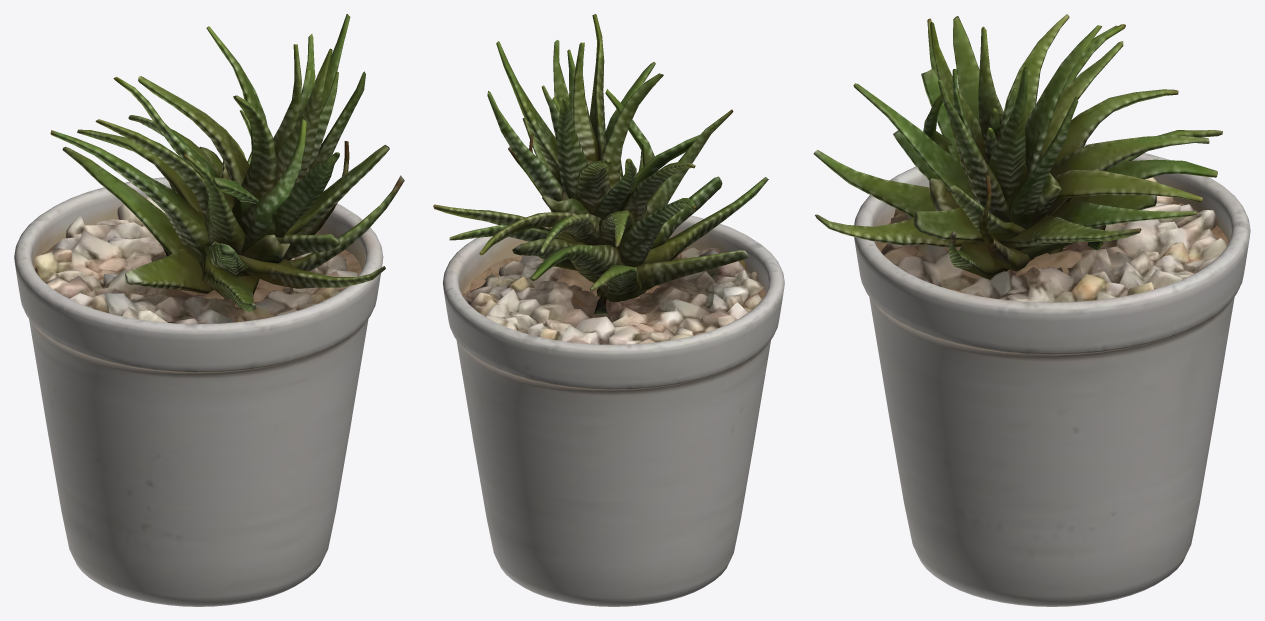
The model's file is potted_plant_04.glb.
3 views of the same model, side by side, from view 1: azimuth 30°, elevation 25°; view 2: azimuth 150°, elevation 25°; view 3: azimuth 270°, elevation 25° (orthographic). The views are drawn at different scales.
Parts seen in each view (by area): view 1: potted_plant_04_pot, potted_plant_04_plant, potted_plant_04_ground, potted_plant_04_dirt; view 2: potted_plant_04_pot, potted_plant_04_plant, potted_plant_04_ground, potted_plant_04_dirt; view 3: potted_plant_04_pot, potted_plant_04_plant, potted_plant_04_ground, potted_plant_04_dirt.
Boxes of the visible parts, box(x1,y1,x2,y2) form: potted_plant_04_pot: box(14, 177, 383, 606); potted_plant_04_plant: box(50, 14, 404, 311); potted_plant_04_ground: box(34, 196, 357, 323); potted_plant_04_dirt: box(34, 238, 362, 307); potted_plant_04_pot: box(443, 215, 784, 606); potted_plant_04_plant: box(433, 14, 768, 314); potted_plant_04_ground: box(463, 247, 765, 344); potted_plant_04_dirt: box(462, 247, 765, 306); potted_plant_04_pot: box(854, 144, 1250, 606); potted_plant_04_plant: box(813, 14, 1222, 279); potted_plant_04_ground: box(881, 177, 1227, 302); potted_plant_04_dirt: box(875, 200, 1228, 297).
Bounding box in the file's own units: 0.1679 × 0.2675 × 0.1848.
1 material, 1 textured.
